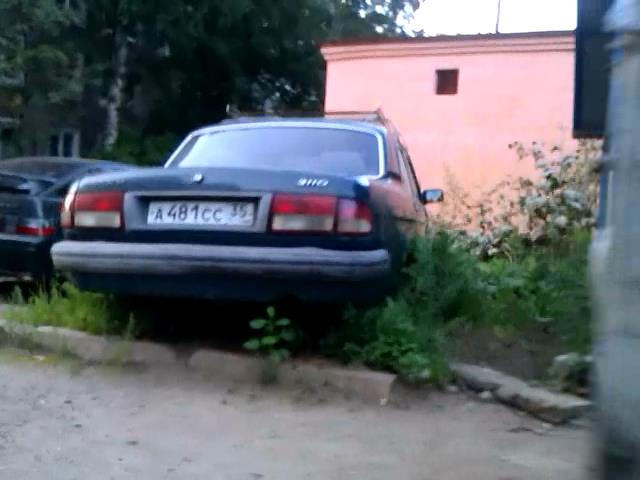car license plate: (145, 201, 256, 227)
